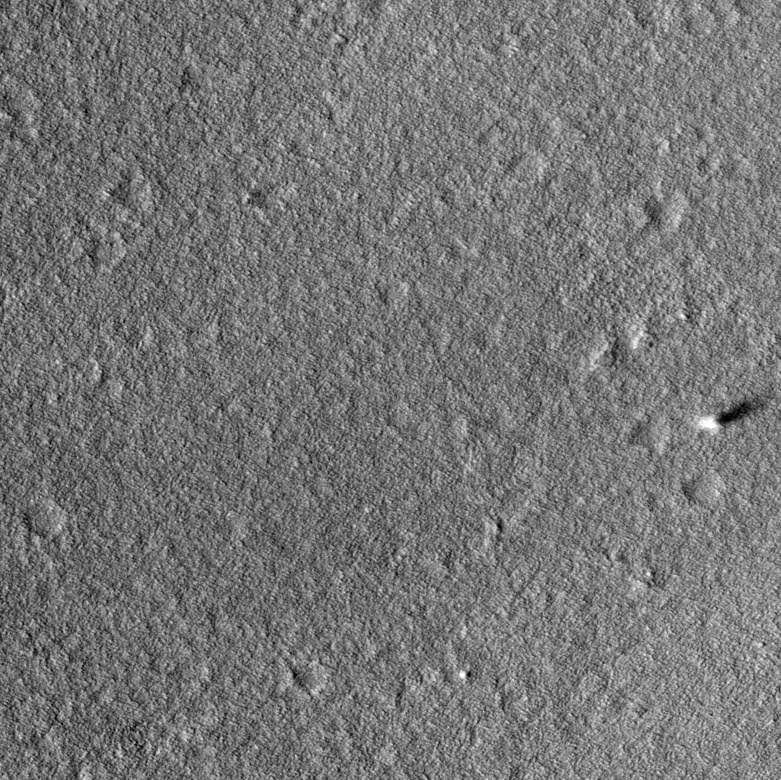dust_devil: (695, 393, 770, 435)
